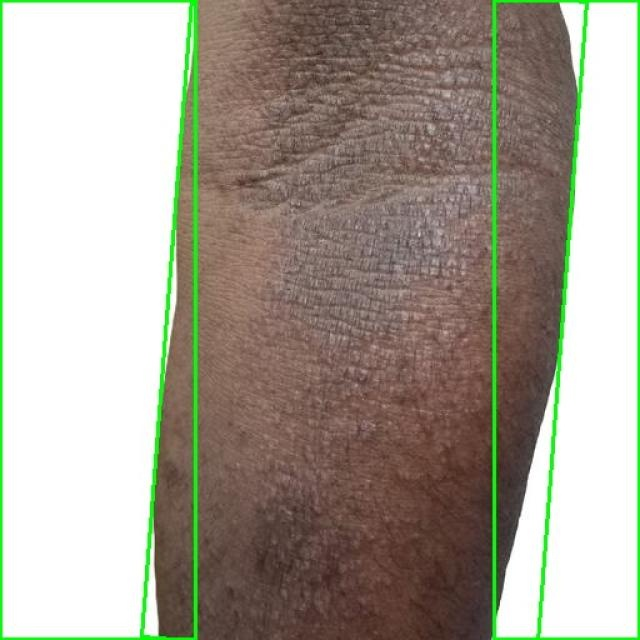Eczema: (142, 0, 587, 640), (0, 0, 195, 639), (494, 0, 639, 639)
